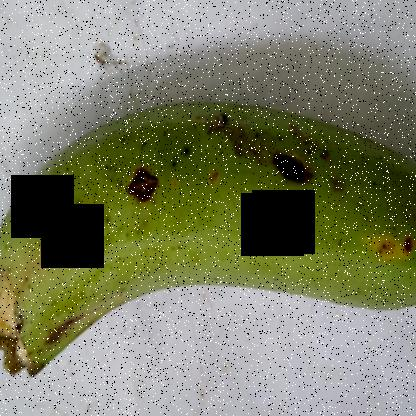unripe: (12, 102, 415, 372)
